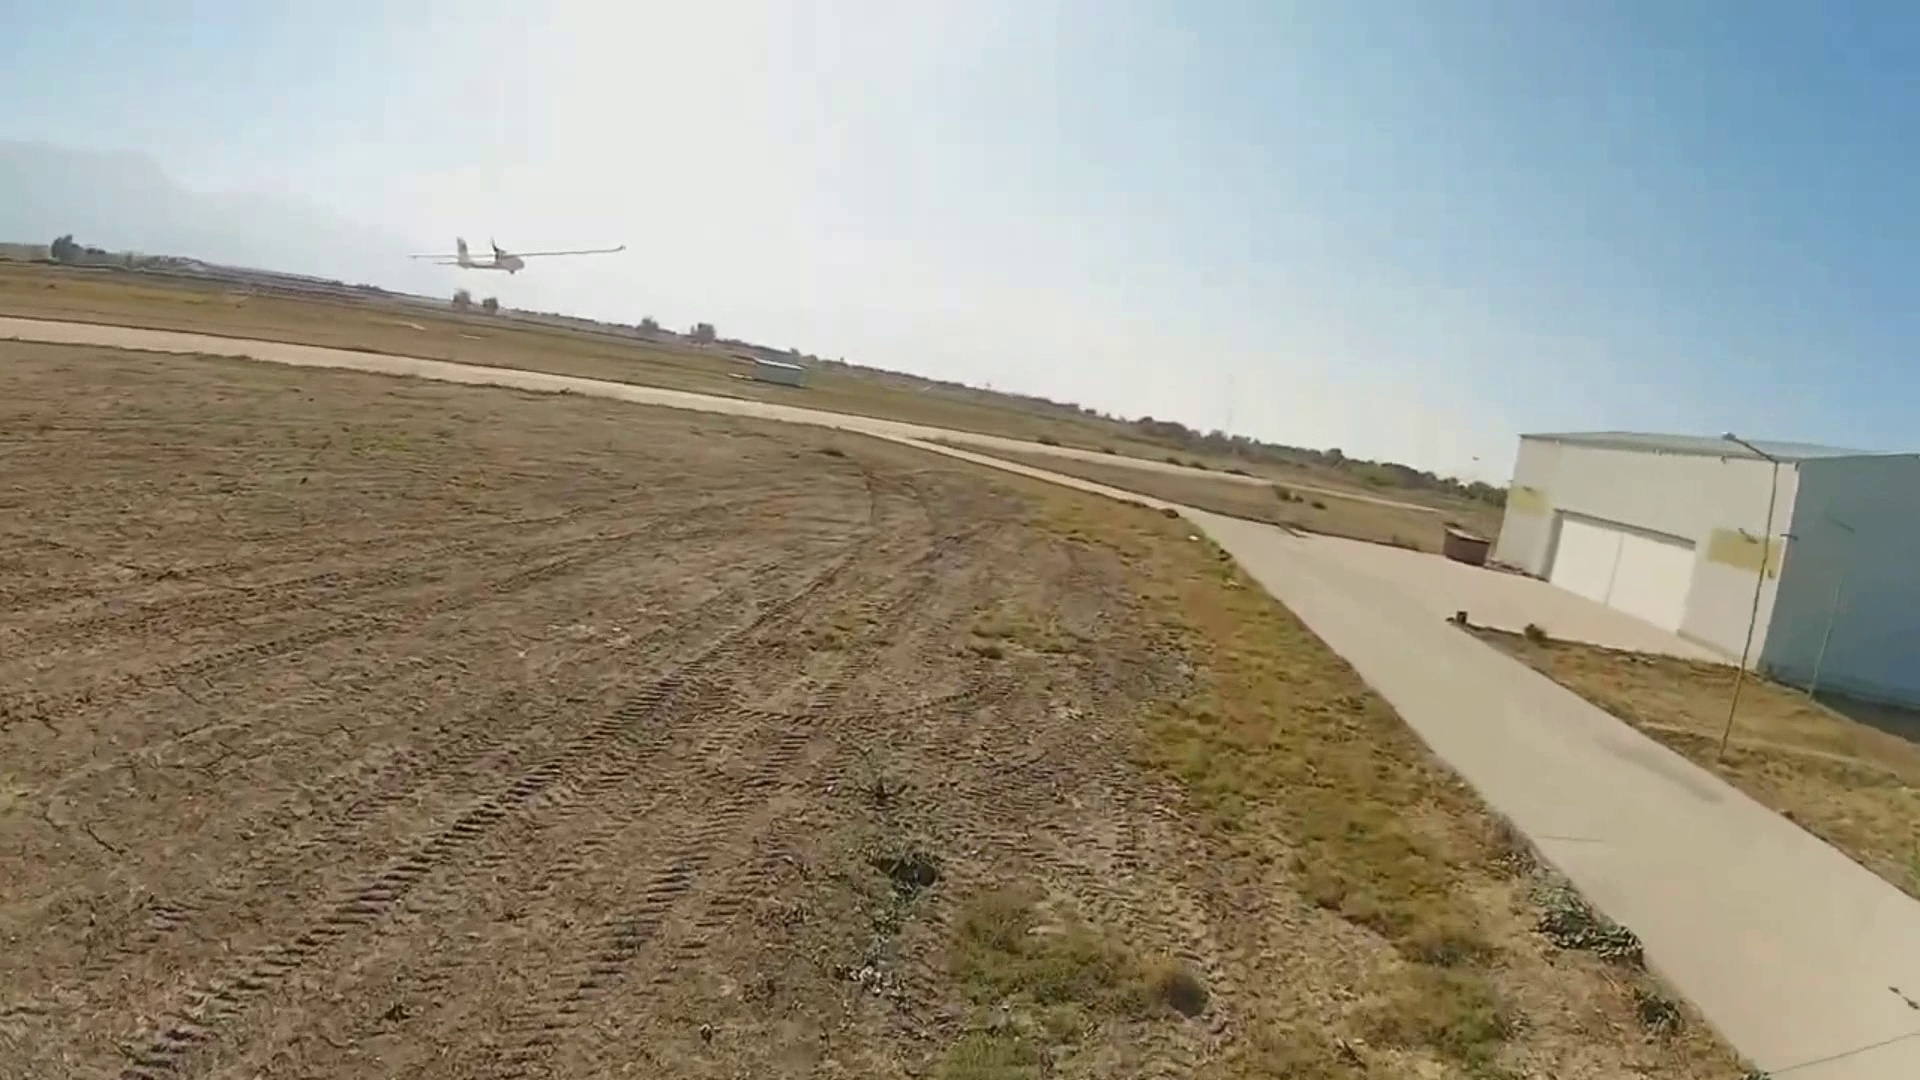airplane: (409, 214, 630, 271)
